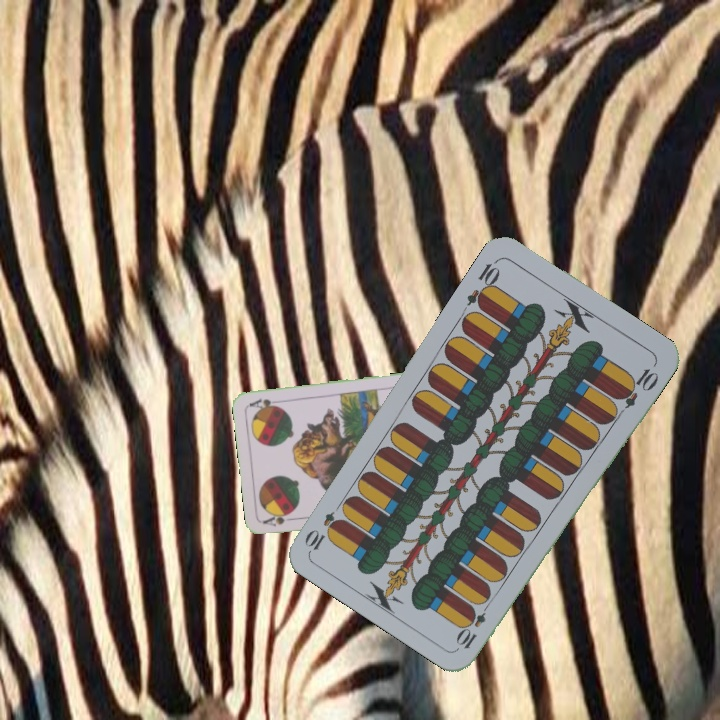E10: (453, 596, 494, 652), (463, 255, 503, 312)
SA: (260, 510, 300, 529)
